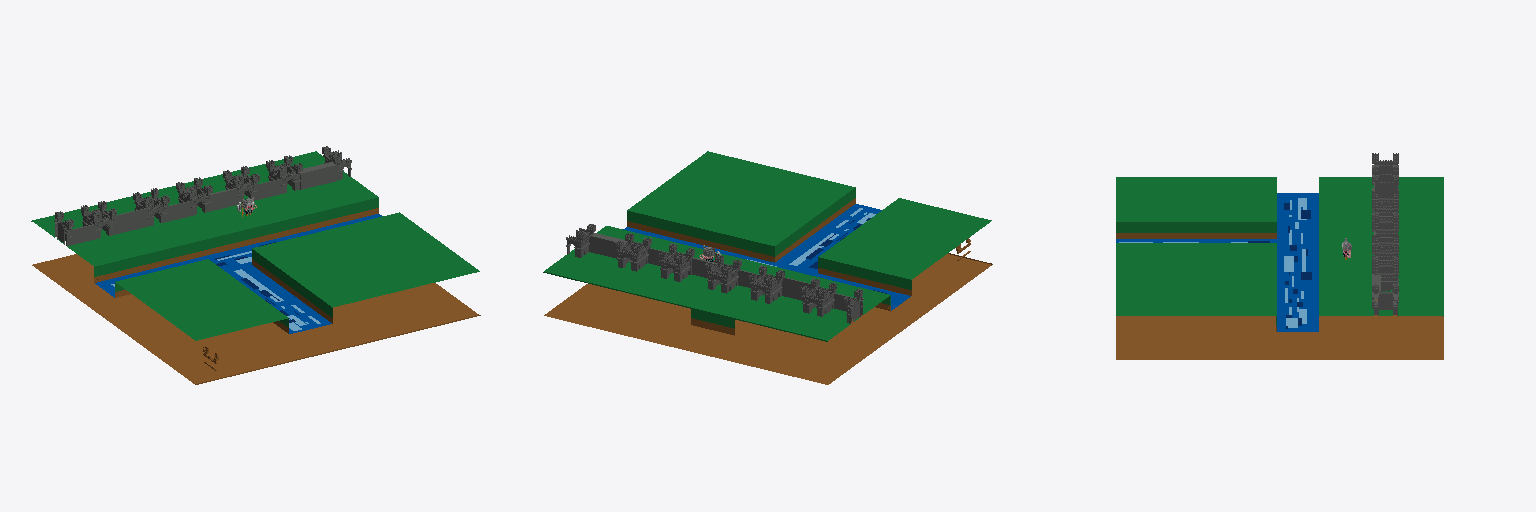
3 renders of one model, left to right at view 1: azimuth 30°, elevation 25°; view 2: azimuth 150°, elevation 25°; view 3: azimuth 270°, elevation 25°, orthographic.
Parts seen in each view (by area): view 1: map_1; view 2: map_1; view 3: map_1.
Part boxes in pixels (x1,y1,x2,y2): map_1: (31,146,480,384); map_1: (543,151,992,384); map_1: (1116,153,1443,359).
Bounding box in the file's own units: 25.6 × 5.9 × 25.6.
Materials: 1 (1 with a texture image).